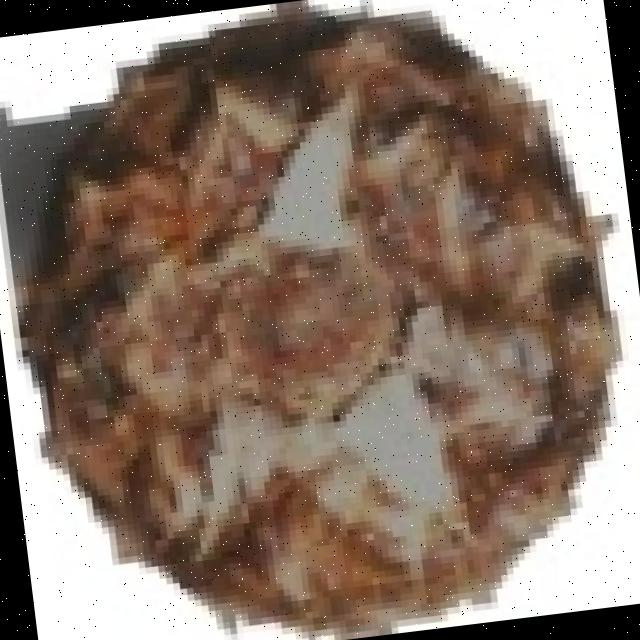pineapple: (14, 28, 628, 636)
